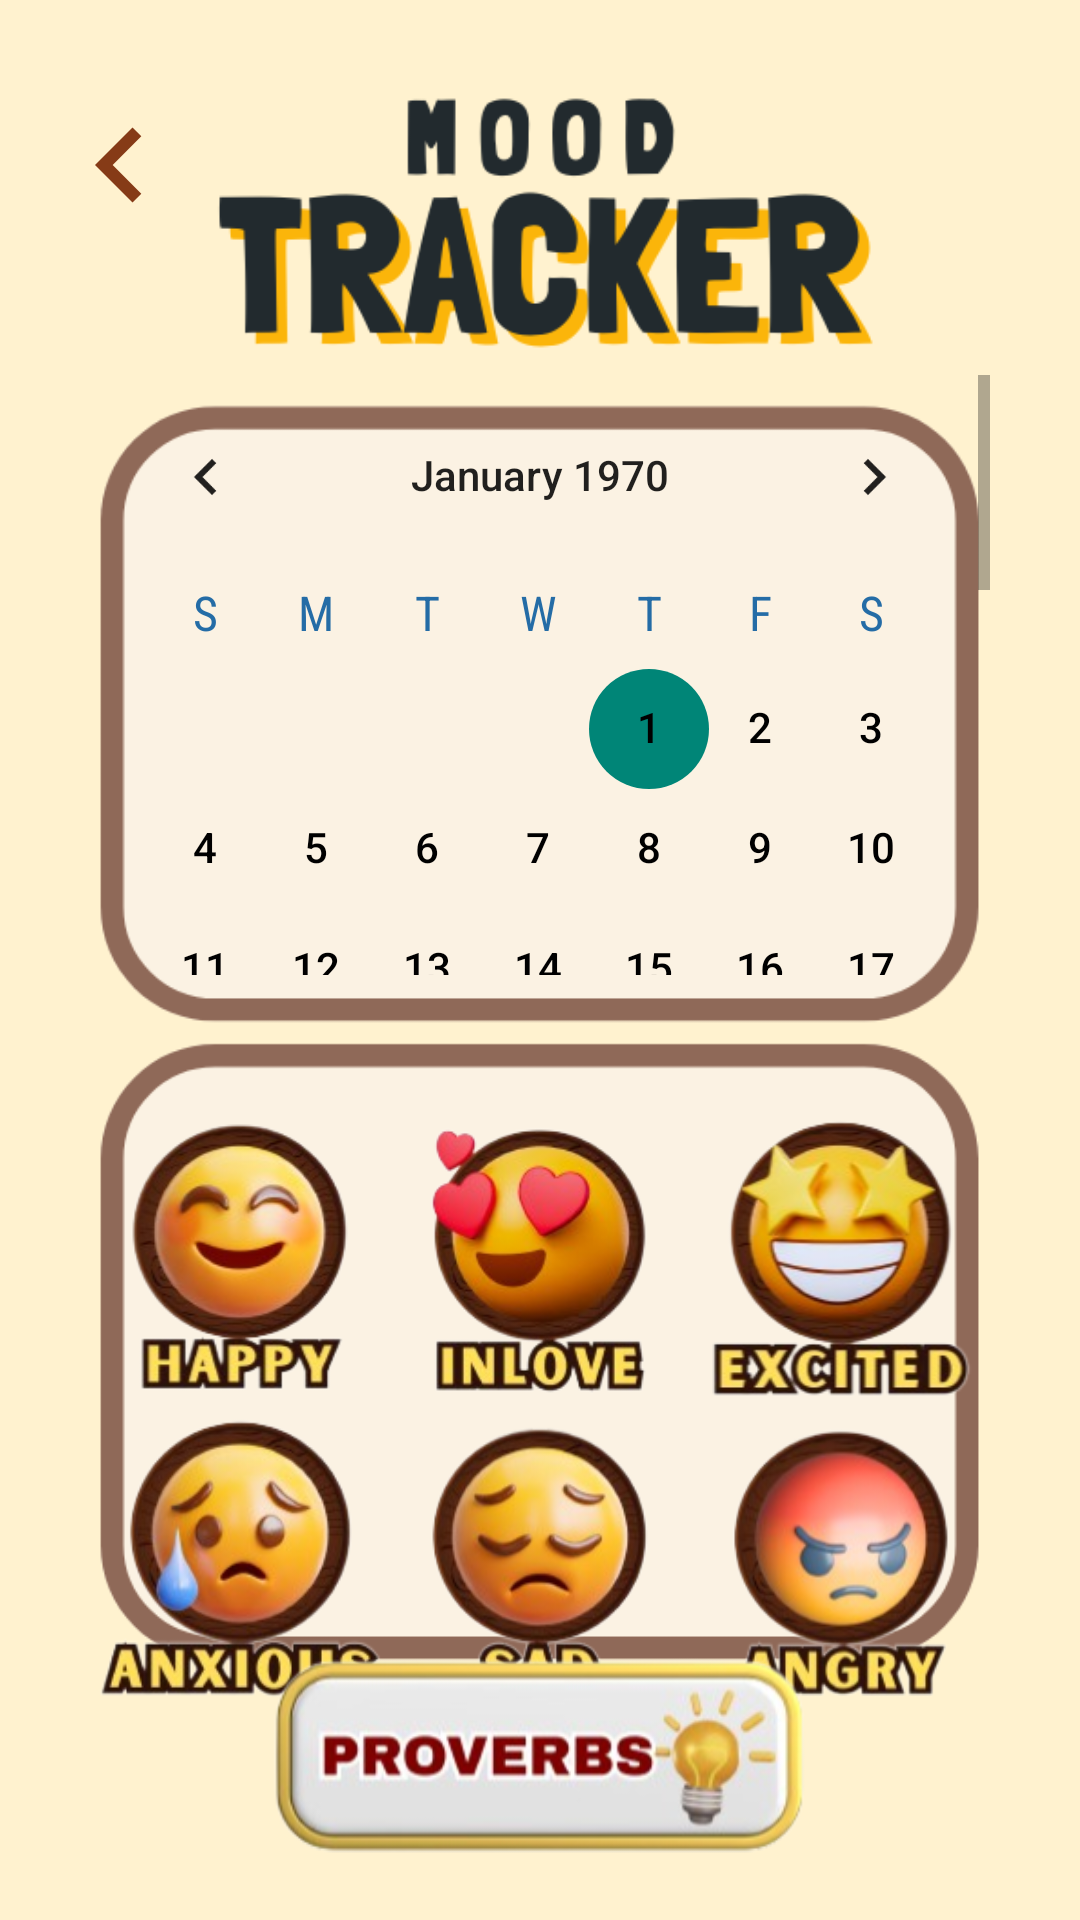

Screen size 1080 x 1920. Icon name, then its box in pixels as box(x1, y1, x2, y2):
blackarrow back: box(95, 127, 141, 203)
